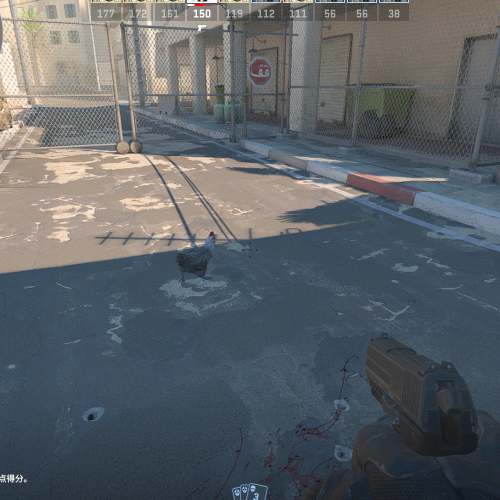chicken: (176, 231, 215, 287)
